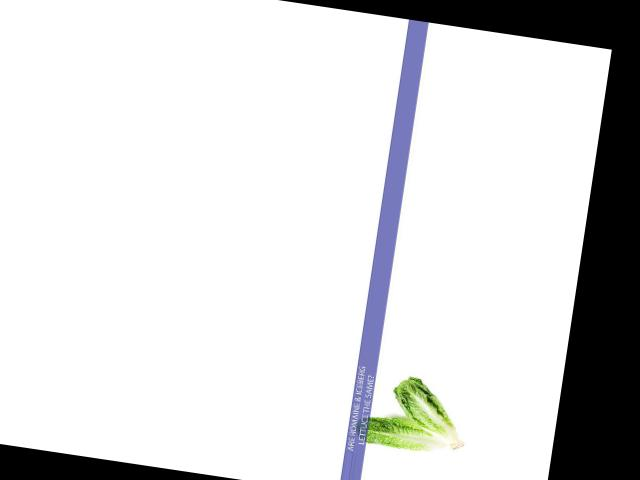lettuce: (379, 375, 472, 454)
